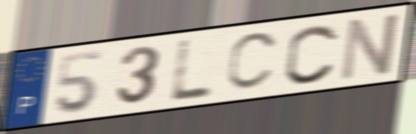3: (112, 44, 162, 108)
5: (55, 46, 107, 117)
C: (282, 22, 342, 86), (224, 29, 283, 93)
L: (167, 36, 216, 104)
N: (337, 10, 403, 84)
